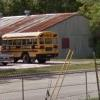Bus: (3, 26, 64, 65)
